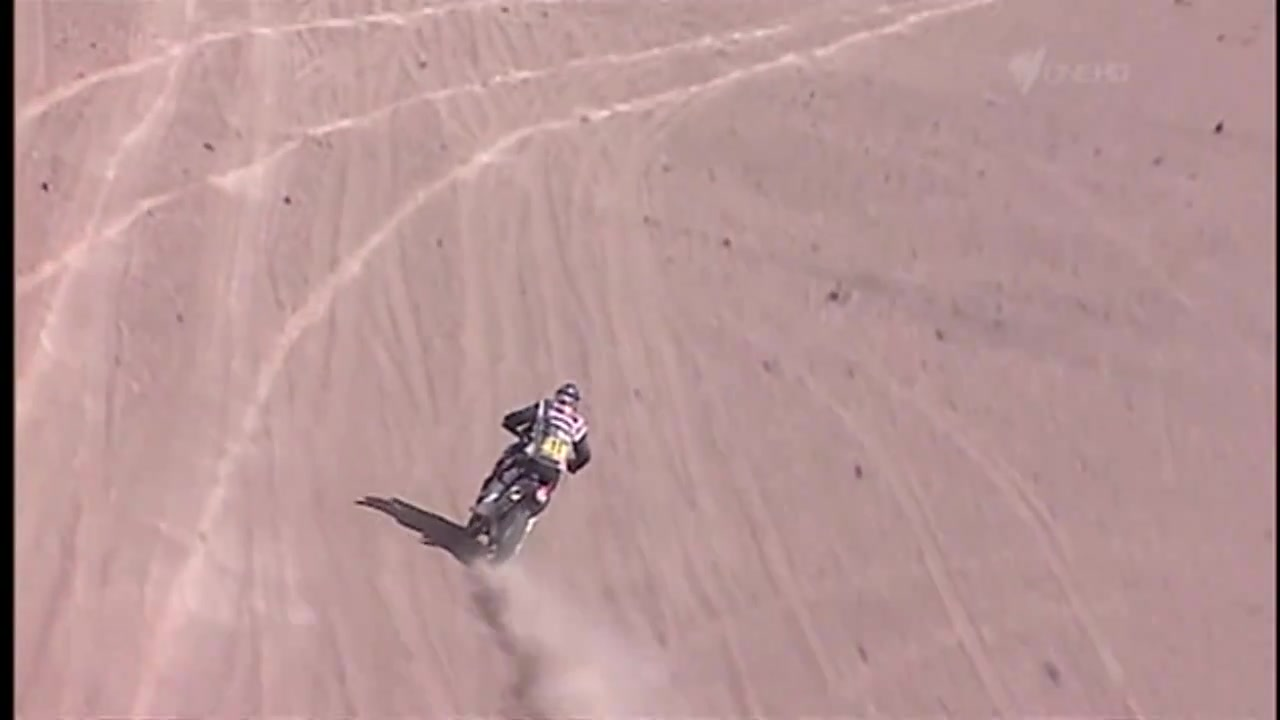motorbike: (469, 419, 563, 575)
